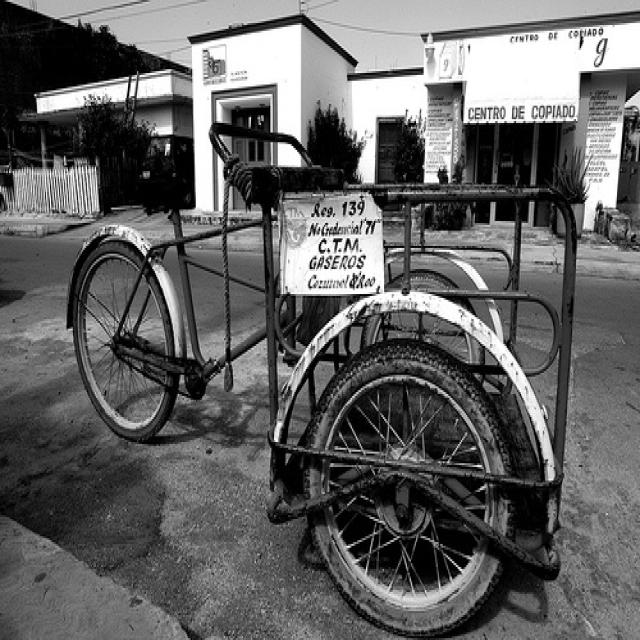bicycle: (56, 115, 571, 625)
pottedplant: (552, 140, 588, 237)
